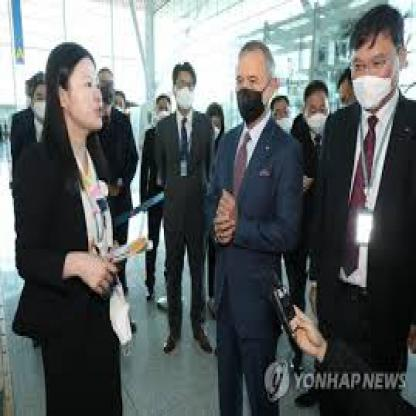Not_Wearing_Mask: (61, 63, 104, 132)
Wearing_Mask: (348, 42, 391, 113), (236, 66, 268, 124), (305, 96, 328, 134), (272, 100, 294, 134), (175, 76, 195, 111), (99, 74, 118, 102), (32, 87, 46, 118), (210, 114, 223, 140), (158, 98, 168, 118)
